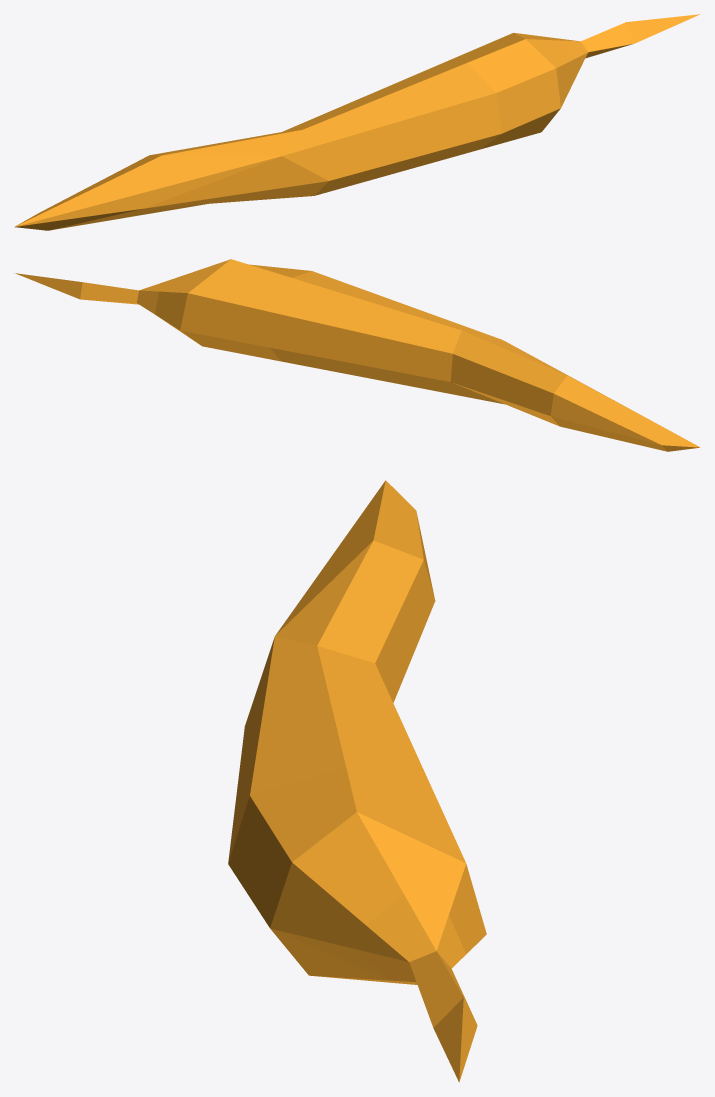
The model's file is SM_Pepperoni_Grilled.fbx.
The picture shows the model from 3 angles, top to bottom: view 1: azimuth 30°, elevation 25°; view 2: azimuth 150°, elevation 25°; view 3: azimuth 270°, elevation 25°; orthographic projection. The views are drawn at different scales.
Parts seen in each view (by area): view 1: pepperoni-grilled; view 2: pepperoni-grilled; view 3: pepperoni-grilled.
Part boxes in pixels (x1,y1,x2,y2): pepperoni-grilled: (14, 14, 699, 230); pepperoni-grilled: (14, 259, 700, 451); pepperoni-grilled: (228, 480, 486, 1082).
Bounding box in the file's own units: 0.2307 × 0.0271 × 0.0387.
